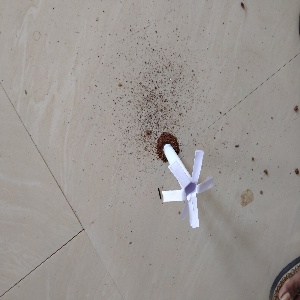weed: (151, 136, 216, 219)
